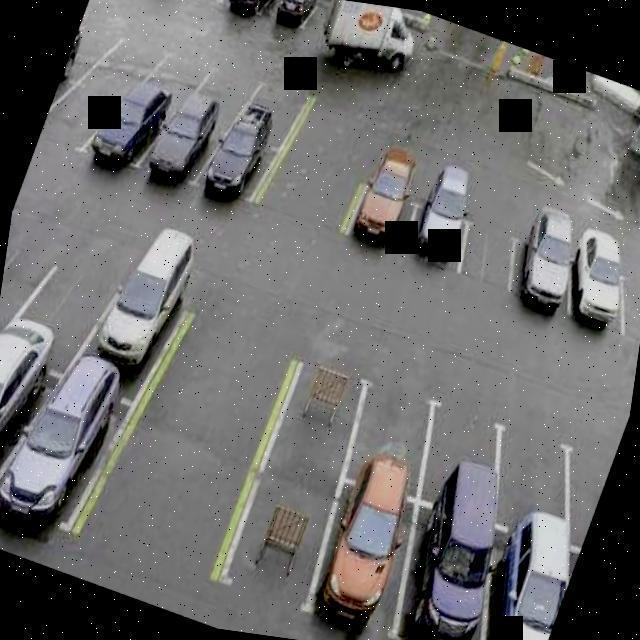car: (0, 346, 144, 552), (299, 472, 424, 635), (381, 502, 519, 640), (223, 453, 344, 604), (80, 255, 198, 395), (464, 522, 582, 640), (264, 358, 372, 482), (0, 355, 57, 525), (86, 84, 175, 186), (336, 172, 422, 273), (144, 100, 232, 197), (556, 254, 638, 346), (498, 236, 580, 326), (202, 122, 280, 213), (393, 198, 472, 284), (256, 0, 325, 50), (219, 0, 279, 32), (139, 0, 206, 15)
free: (400, 386, 532, 530), (466, 418, 600, 556), (2, 222, 126, 369), (335, 369, 447, 503), (36, 70, 123, 166), (446, 220, 534, 314), (550, 436, 618, 556), (0, 217, 53, 352), (238, 70, 317, 148), (94, 20, 164, 104), (185, 55, 255, 133), (142, 36, 208, 118), (64, 1, 122, 80), (602, 266, 640, 362), (179, 0, 240, 20)
